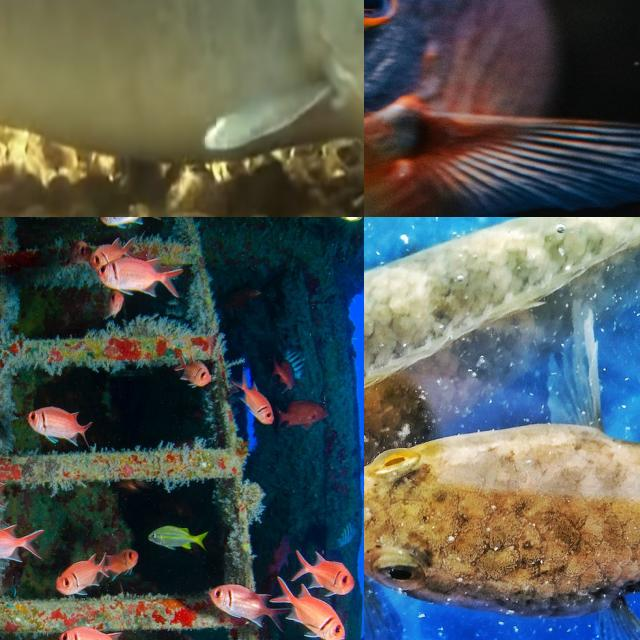fish: (0, 0, 364, 217), (364, 0, 640, 217), (364, 459, 617, 634), (0, 371, 243, 463)
